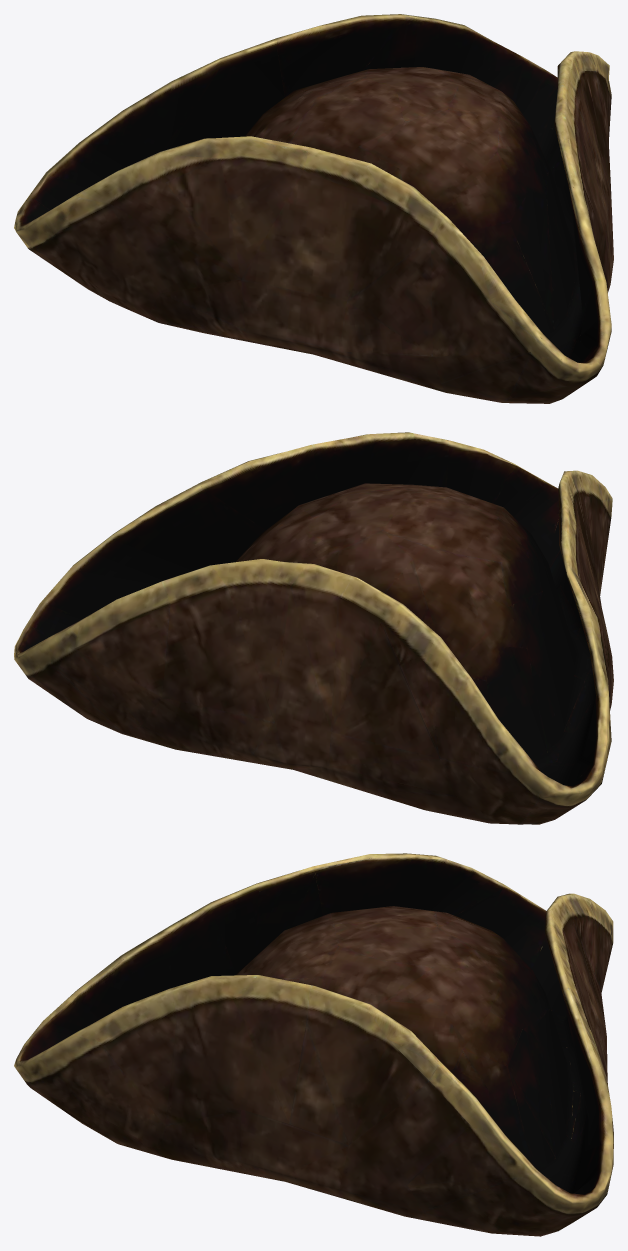
File: pirate_hat.glb
The picture shows the model from 3 angles, top to bottom: view 1: azimuth 30°, elevation 25°; view 2: azimuth 150°, elevation 25°; view 3: azimuth 270°, elevation 25°; orthographic projection. The views are drawn at different scales.
Visible parts, largest first — view 1: geometry_0; view 2: geometry_0; view 3: geometry_0.
Boxes of the visible parts, x1,y1,x2,y2 form: geometry_0: (14, 14, 613, 403); geometry_0: (14, 432, 613, 824); geometry_0: (14, 853, 613, 1236).
Bounding box in the file's own units: 0.9502 × 0.333 × 0.8755.
Materials: 1 (1 with a texture image).
